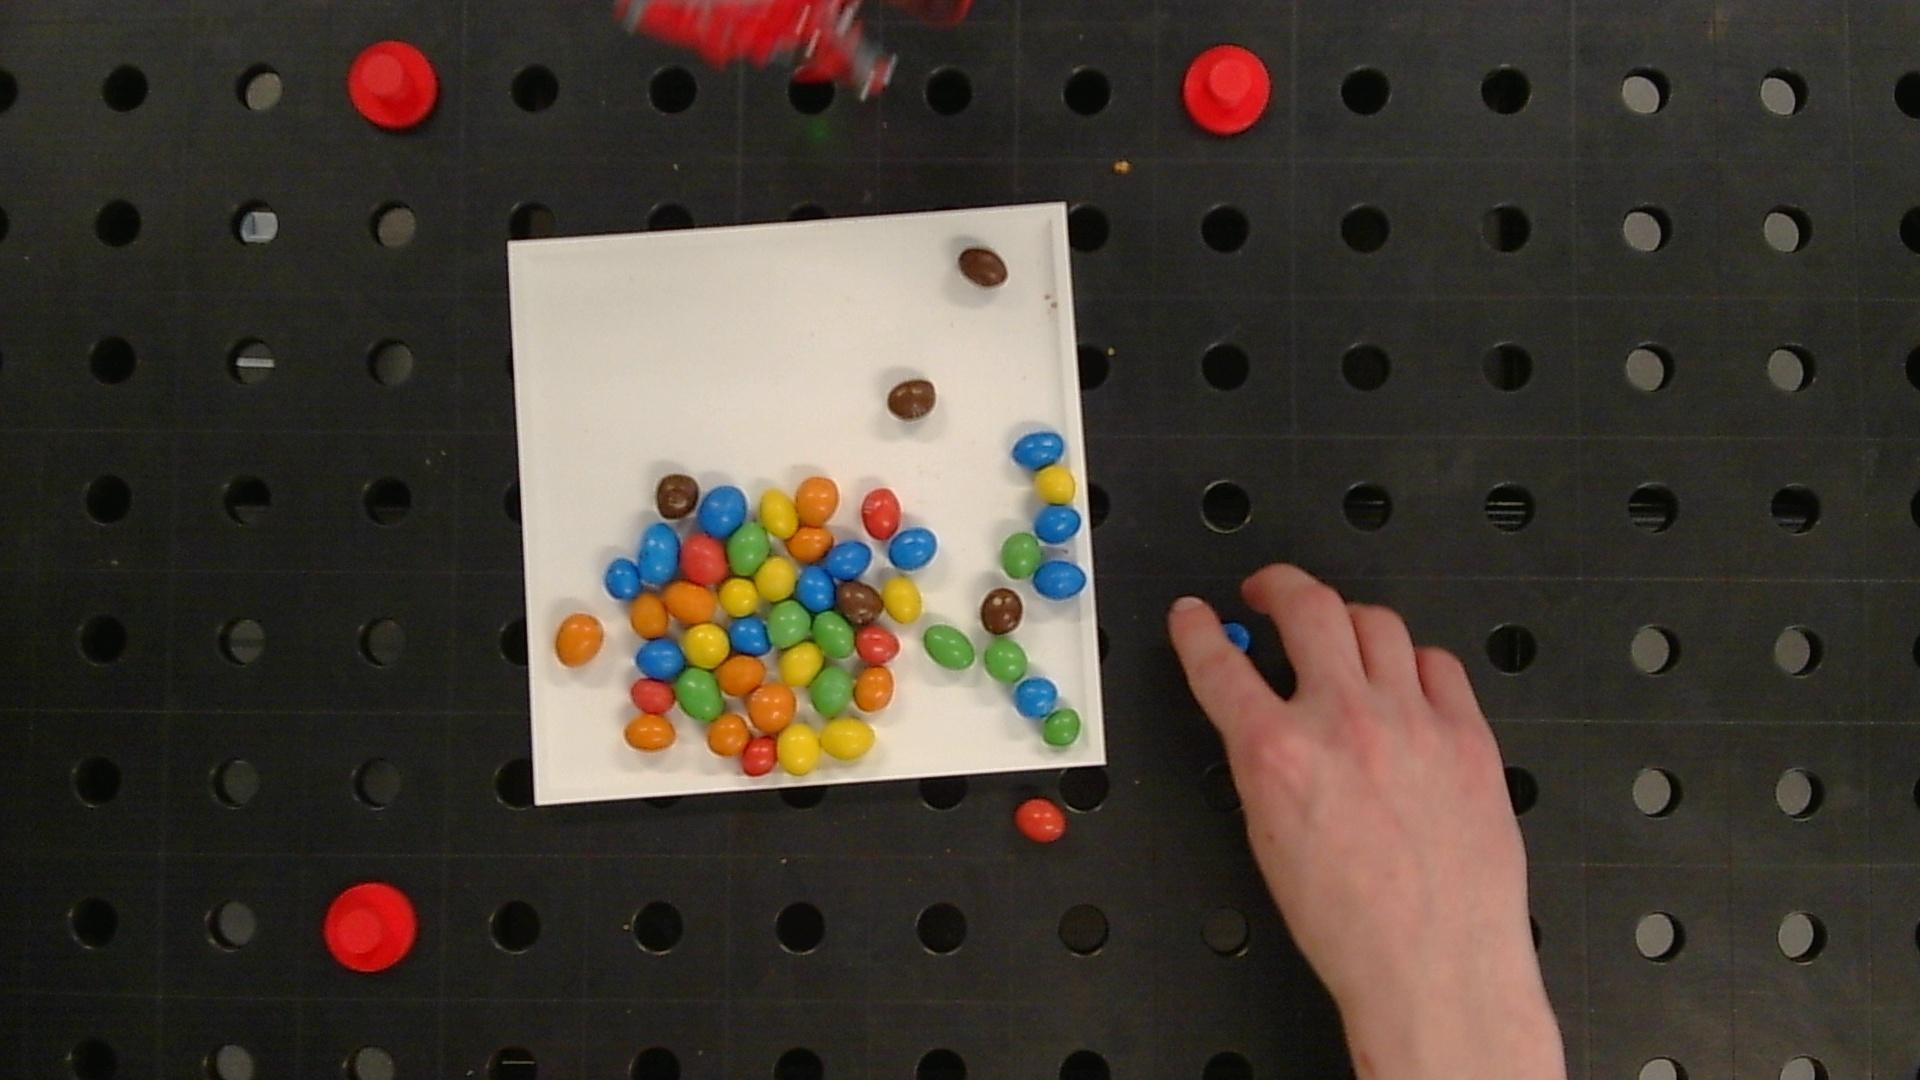blue: (638, 522, 679, 585), (699, 485, 746, 535), (1034, 562, 1087, 600), (887, 529, 936, 568), (636, 638, 684, 678), (796, 566, 836, 612), (1014, 676, 1058, 717), (1013, 433, 1062, 468), (825, 541, 869, 580), (1034, 505, 1081, 541), (729, 617, 769, 654), (607, 559, 642, 599)
brown: (837, 580, 882, 625), (960, 248, 1007, 287), (889, 380, 936, 419), (982, 588, 1022, 634), (655, 475, 698, 517)
green: (675, 667, 723, 719), (923, 625, 975, 671), (728, 522, 769, 575), (811, 666, 853, 715), (814, 612, 855, 658), (769, 601, 810, 647), (985, 640, 1027, 683), (1001, 534, 1039, 578), (1043, 708, 1080, 746)
orange: (554, 613, 604, 669), (748, 683, 795, 732), (662, 582, 715, 624), (796, 477, 839, 526), (707, 713, 752, 757), (719, 655, 765, 695), (624, 715, 673, 752), (853, 667, 893, 711), (629, 593, 666, 640), (787, 527, 831, 560)
red: (679, 535, 727, 585), (1015, 799, 1065, 843), (862, 488, 899, 537), (856, 625, 901, 665), (632, 678, 674, 715), (741, 736, 777, 774)
yellow: (779, 724, 823, 775), (758, 488, 799, 541), (822, 716, 874, 757), (682, 625, 729, 667), (778, 642, 822, 687), (884, 575, 922, 622), (719, 578, 760, 617), (757, 558, 796, 599), (1036, 465, 1075, 502)
